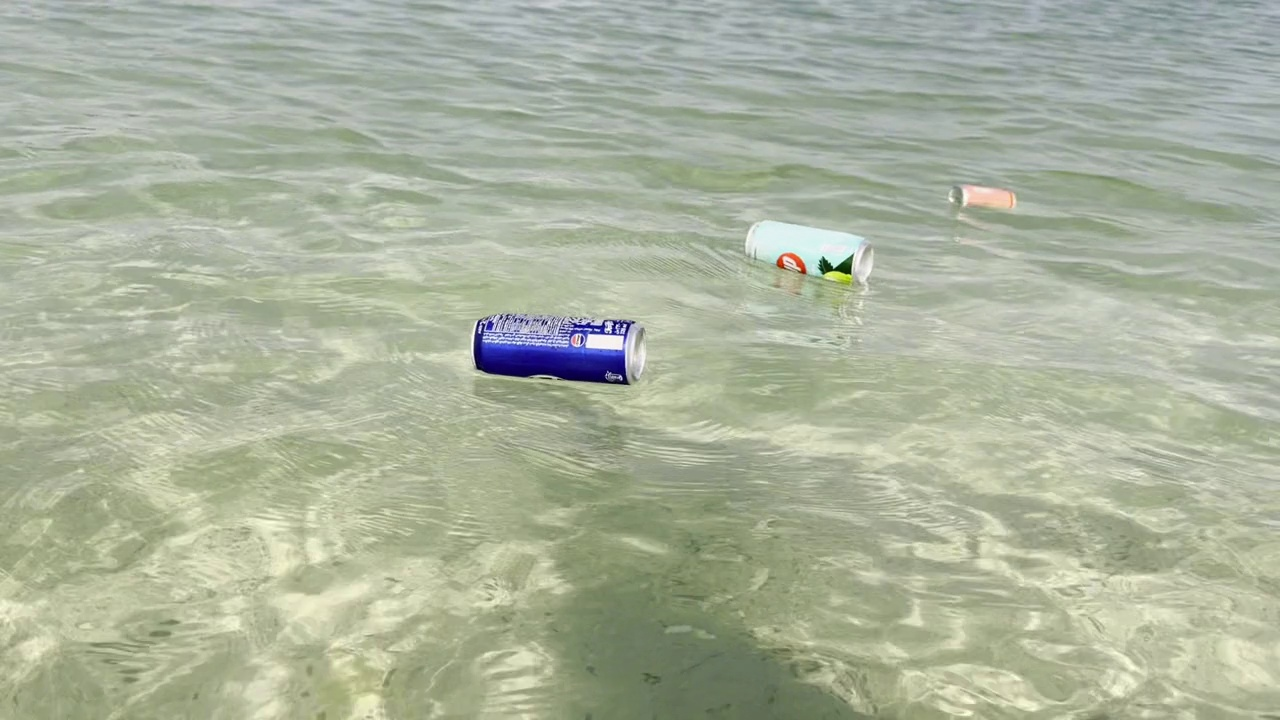debris: (466, 308, 651, 393), (742, 217, 882, 294), (943, 173, 1020, 215)
